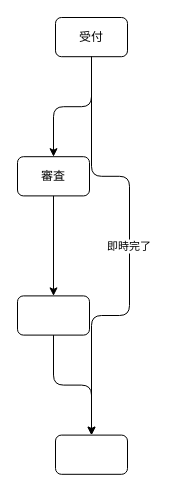
This 170x492 diagram has some shape labels left out. Each missing label, with the centre of its shape:
"完了" goes at point 91,454.
"承認" goes at point 53,315.
